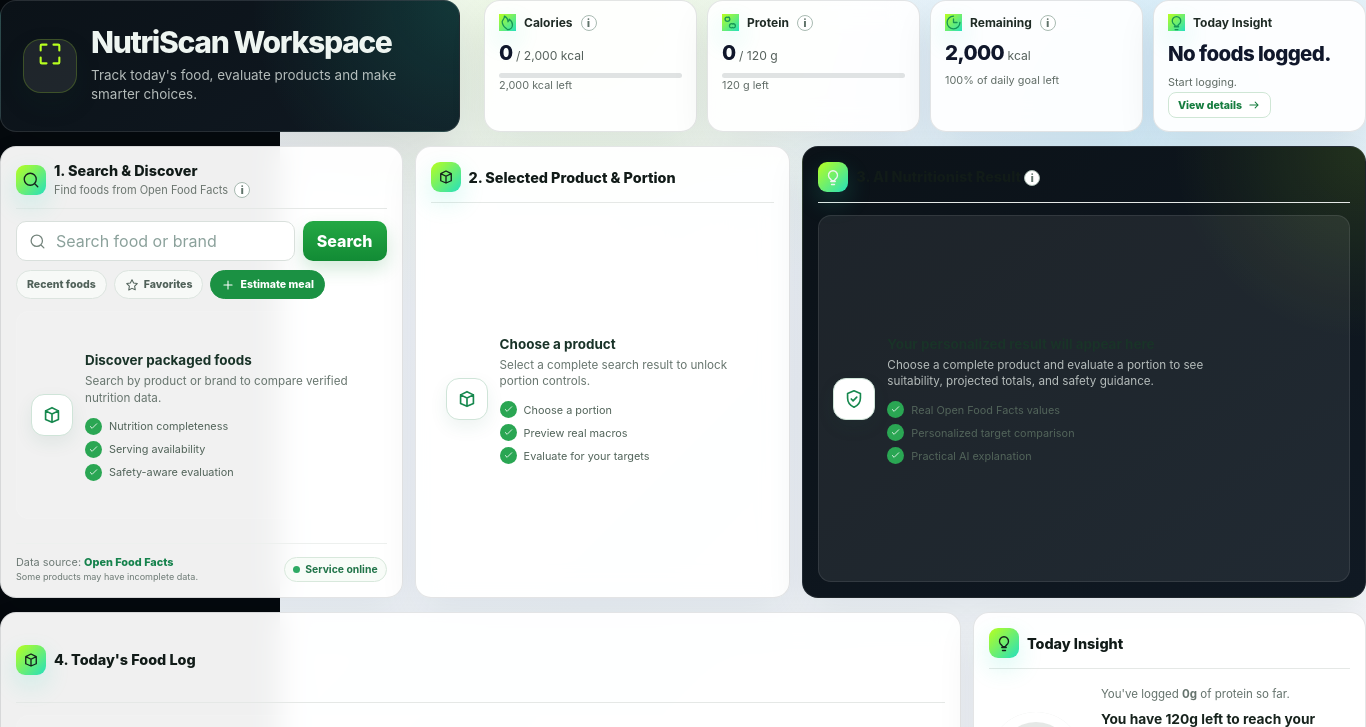
it: recent foods and favorites chips display API results without endpoint errors
The width and height of the screenshot is (1366, 727).
Click the button "Favorites" at (159, 284), box [114,270,203,299]
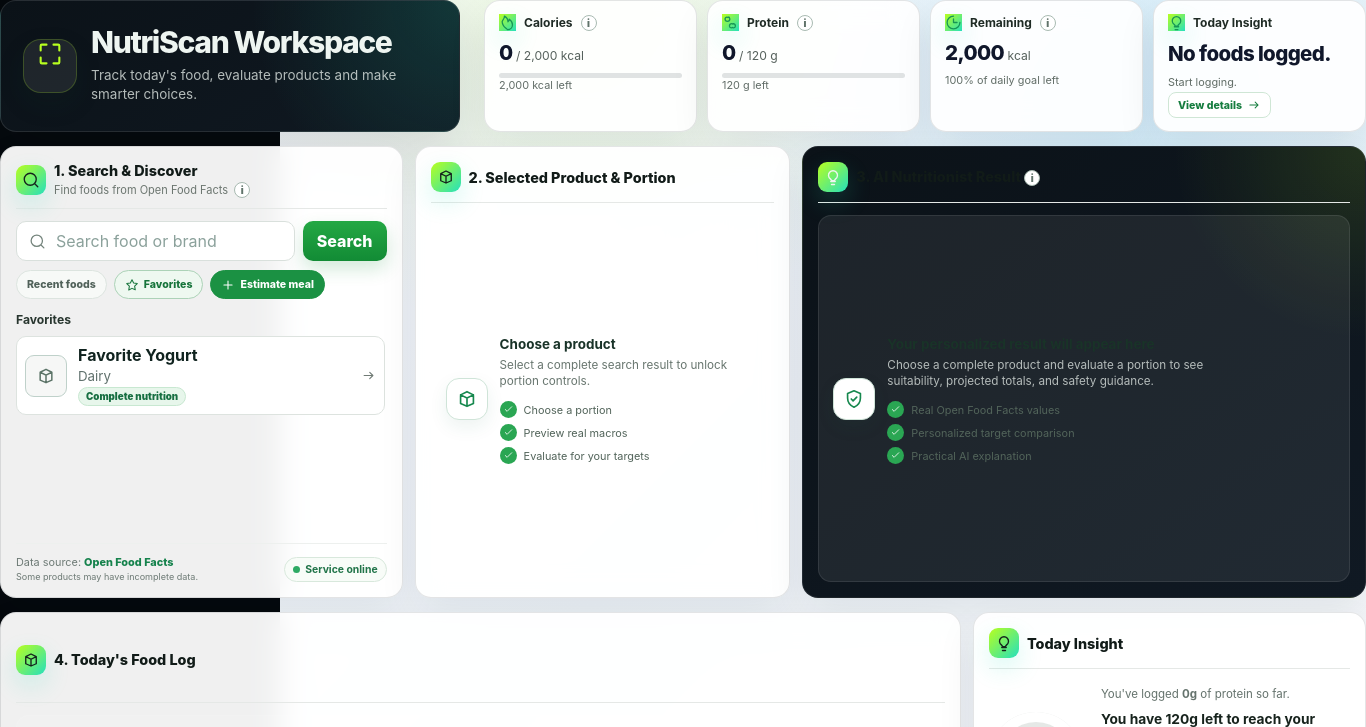
Expected: the text "Favorite Yogurt" is shown, [78,345,198,365]
Click the button "Recent foods" at (61, 284), box [16,270,107,299]
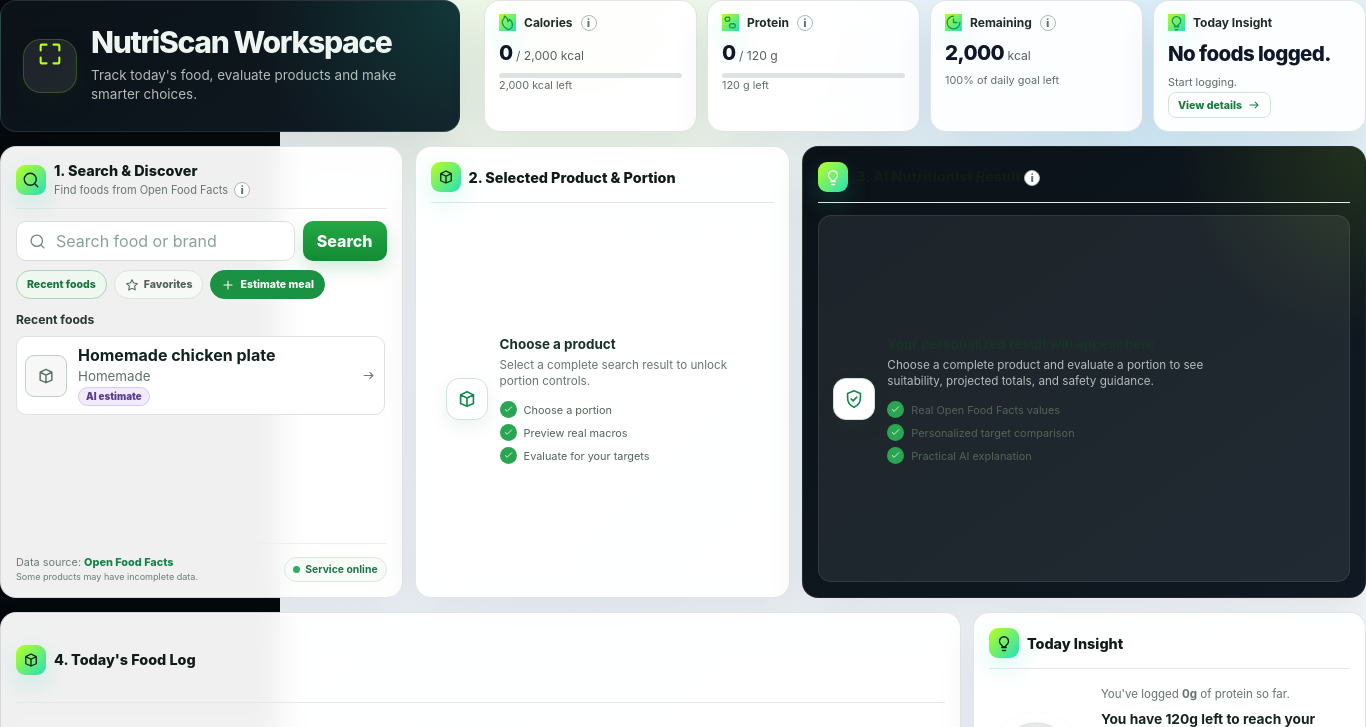
Expected: the text "Homemade chicken plate" is shown, [78,345,276,365]
